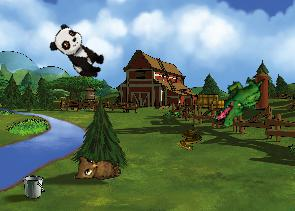crocodile: (212, 66, 267, 135)
owl: (71, 148, 122, 184)
panda: (45, 21, 111, 83)
